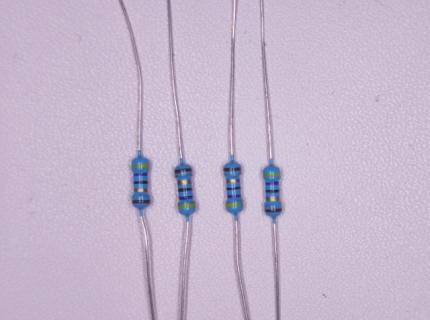Black band: (178, 188, 192, 192), (227, 186, 240, 190), (134, 181, 148, 184), (266, 190, 280, 193)
Brown band: (132, 199, 150, 204), (265, 208, 282, 213), (175, 168, 192, 172), (224, 167, 241, 171)
Gold band: (178, 179, 192, 185), (266, 196, 279, 201), (134, 189, 148, 193), (226, 179, 240, 183)
Violet band: (179, 195, 193, 200), (227, 194, 241, 198), (265, 181, 279, 185), (134, 173, 148, 176)
Yellow band: (132, 163, 149, 169), (178, 203, 195, 209), (226, 202, 243, 207), (263, 173, 280, 177)
